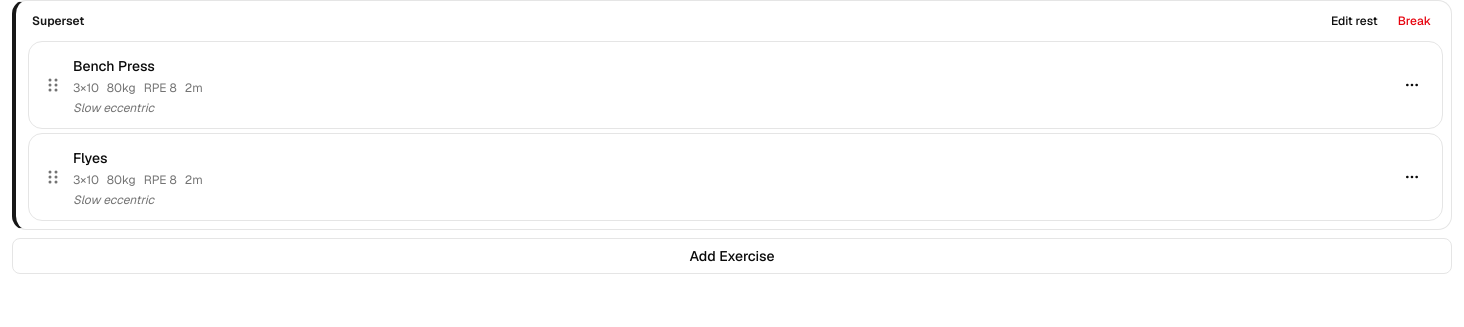
Test: SlotList — transfer actions (T149) › transfers all superset group members when slot has group_id
This screenshot has width=1464, height=327.
// Open the actions dropdown for the first slot in the superset
Click the button named "actions" in the row of "Bench Press". click: (1412, 85)
box: [1398,71,1426,99]
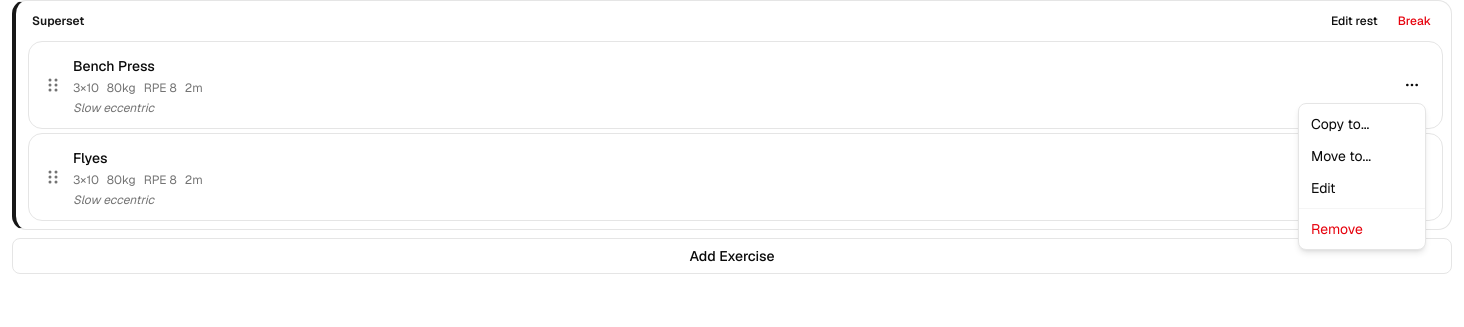
Click the menu item "Copy to...". click: (1340, 124)
box: [1311,115,1369,133]
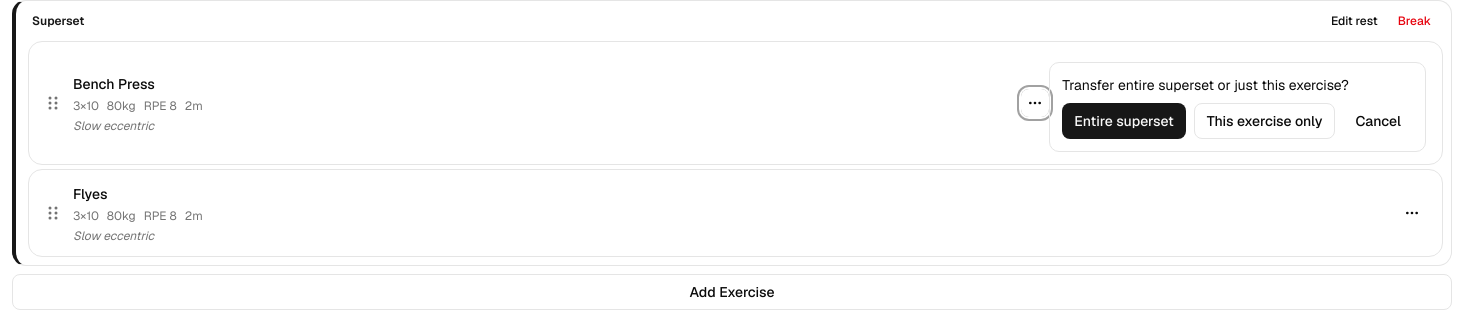
Expected: the button "Entire superset" is shown, [1062,103,1186,139]
